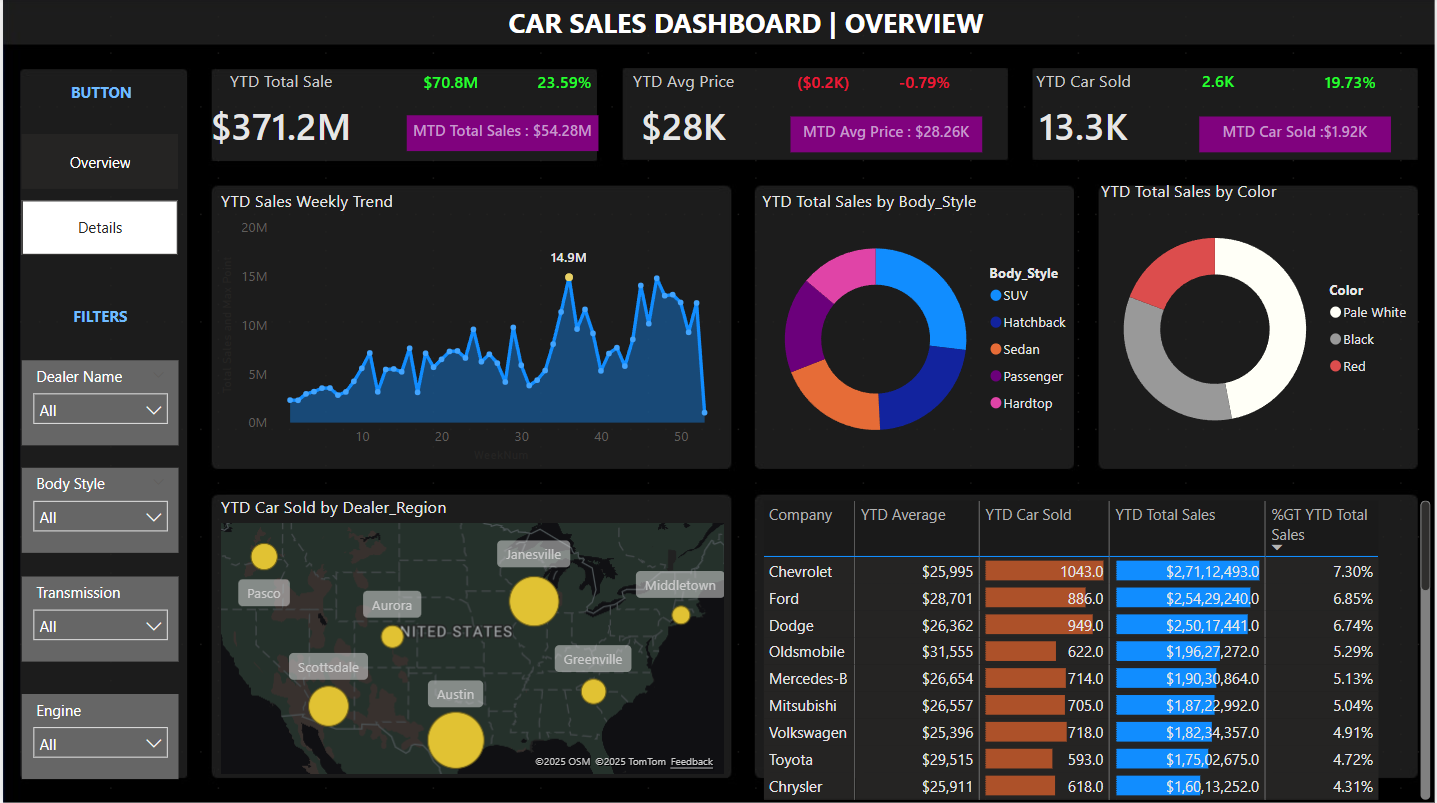

Layout of this report page (visuals, bound fields, positions):
{"tool":"powerbi","page":{"name":"Overview","canvas":[1280,720],"ordinal":0},"visuals":[{"type":"card","title":"YTD Total Sale","fields":{"Values":["Measure_Table.Total YTD"]},"box":[157.5,62.8,182.2,82.5],"z":0},{"type":"card","fields":{"Values":["Measure_Table.Sales Difference"]},"box":[349.2,62.6,101.6,27.8],"z":1000},{"type":"card","fields":{"Values":["Measure_Table.YOY Sales Growth"]},"box":[450.8,62.6,101.6,27.8],"z":2000},{"type":"card","fields":{"Values":["Measure_Table.MTD KPI"]},"box":[360.3,104.3,171.1,32],"z":3000},{"type":"card","title":"YTD Avg Price","fields":{"Values":["Measure_Table.YTD Average"]},"box":[516.9,62.8,182.2,82.5],"z":4000},{"type":"card","fields":{"Values":["Measure_Table.Average Price Difference"]},"box":[681.8,62.8,100.9,28.3],"z":5000},{"type":"card","fields":{"Values":["Measure_Table.YOY Avg Price Growth"]},"box":[772.9,62.8,100.9,28.3],"z":6000},{"type":"card","fields":{"Values":["Measure_Table.MTD Avg Price KPI"]},"box":[702.8,104.6,171.1,32],"z":7000},{"type":"card","title":"YTD Car Sold","fields":{"Values":["Measure_Table.YTD Car Sold"]},"box":[873.8,62.8,182.2,82.5],"z":8000},{"type":"card","fields":{"Values":["Measure_Table.Car Sold Difference"]},"box":[1035.1,61.5,100.9,28.3],"z":9000},{"type":"card","fields":{"Values":["Measure_Table.YOY Car Sold Growth"]},"box":[1153.2,62.8,100.9,28.3],"z":10000},{"type":"card","fields":{"Values":["Measure_Table.MTD Car Sold KPI"]},"box":[1068.3,104.6,171.1,32],"z":11000},{"type":"areaChart","title":"YTD Sales Weekly Trend","fields":{"Category":["Calender Table.WeekNum"],"Y":["Measure_Table.Total Sales","Measure_Table.Max Point"]},"box":[189.5,169.8,459.1,248.6],"z":12000},{"type":"donutChart","fields":{"Category":["CAR.Body_Style"],"Y":["Measure_Table.YTD Total Sales"]},"box":[673.2,169.8,291.7,248.6],"z":13000},{"type":"donutChart","fields":{"Y":["Measure_Table.YTD Total Sales"],"Category":["CAR.Color"]},"box":[976,161.2,291.7,248.6],"z":14000},{"type":"map","fields":{"Category":["CAR.Dealer_Region"],"Size":["Measure_Table.YTD Car Sold"]},"box":[189.5,443.1,459.1,253.5],"z":15000},{"type":"tableEx","fields":{"Values":["CAR.Company","Measure_Table.YTD Average","Measure_Table.YTD Car Sold","Measure_Table.YTD Total Sales1","Measure_Table.YTD Total Sales"]},"box":[673.2,443.1,606.8,276.9],"z":16000},{"type":"textbox","box":[446.8,0,451.7,51.7],"z":17000},{"type":"slicer","fields":{"Values":["CAR.Body_Style"]},"box":[17.2,418.5,140.3,76.3],"z":18000},{"type":"slicer","fields":{"Values":["CAR.Dealer_Name"]},"box":[17.2,322.5,140.3,76.3],"z":19000},{"type":"slicer","fields":{"Values":["CAR.Transmission"]},"box":[17.2,515.7,140.3,76.3],"z":20000},{"type":"slicer","fields":{"Values":["CAR.Engine"]},"box":[17.2,620.3,140.3,76.3],"z":21000},{"type":"textbox","box":[17.2,269.5,140.3,41.8],"z":22000},{"type":"pageNavigator","box":[17.2,120.6,140.3,108.3],"z":22001}]}

Visuals, with their boxes in screenshot pixels (x1, y1, x2, y2), scaled from the page's 1280x720 canvas onto the 1437x803 screenshot:
"YTD Total Sale" card: [x1=177, y1=70, x2=381, y2=162]
card - Measure_Table.Sales Difference: [x1=392, y1=70, x2=506, y2=101]
card - Measure_Table.YOY Sales Growth: [x1=506, y1=70, x2=620, y2=101]
card - Measure_Table.MTD KPI: [x1=404, y1=116, x2=597, y2=152]
"YTD Avg Price" card: [x1=580, y1=70, x2=785, y2=162]
card - Measure_Table.Average Price Difference: [x1=765, y1=70, x2=879, y2=102]
card - Measure_Table.YOY Avg Price Growth: [x1=868, y1=70, x2=981, y2=102]
card - Measure_Table.MTD Avg Price KPI: [x1=789, y1=117, x2=981, y2=152]
"YTD Car Sold" card: [x1=981, y1=70, x2=1186, y2=162]
card - Measure_Table.Car Sold Difference: [x1=1162, y1=69, x2=1275, y2=100]
card - Measure_Table.YOY Car Sold Growth: [x1=1295, y1=70, x2=1408, y2=102]
card - Measure_Table.MTD Car Sold KPI: [x1=1199, y1=117, x2=1391, y2=152]
"YTD Sales Weekly Trend" areaChart: [x1=213, y1=189, x2=728, y2=467]
donutChart - CAR.Body_Style x Measure_Table.YTD Total Sales: [x1=756, y1=189, x2=1083, y2=467]
donutChart - Measure_Table.YTD Total Sales x CAR.Color: [x1=1096, y1=180, x2=1423, y2=457]
map - CAR.Dealer_Region x Measure_Table.YTD Car Sold: [x1=213, y1=494, x2=728, y2=777]
tableEx - CAR.Company x Measure_Table.YTD Average: [x1=756, y1=494, x2=1436, y2=802]
textbox: [x1=502, y1=0, x2=1009, y2=58]
slicer - CAR.Body_Style: [x1=19, y1=467, x2=177, y2=552]
slicer - CAR.Dealer_Name: [x1=19, y1=360, x2=177, y2=445]
slicer - CAR.Transmission: [x1=19, y1=575, x2=177, y2=660]
slicer - CAR.Engine: [x1=19, y1=692, x2=177, y2=777]
textbox: [x1=19, y1=301, x2=177, y2=347]
pageNavigator: [x1=19, y1=135, x2=177, y2=255]
